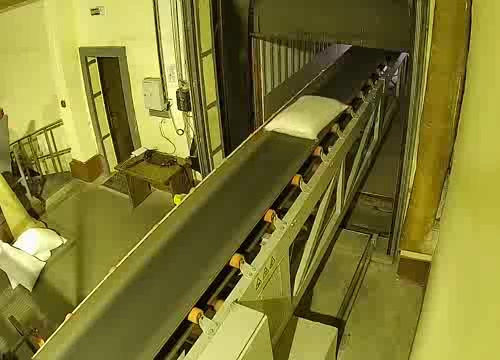bag: (258, 92, 352, 147)
